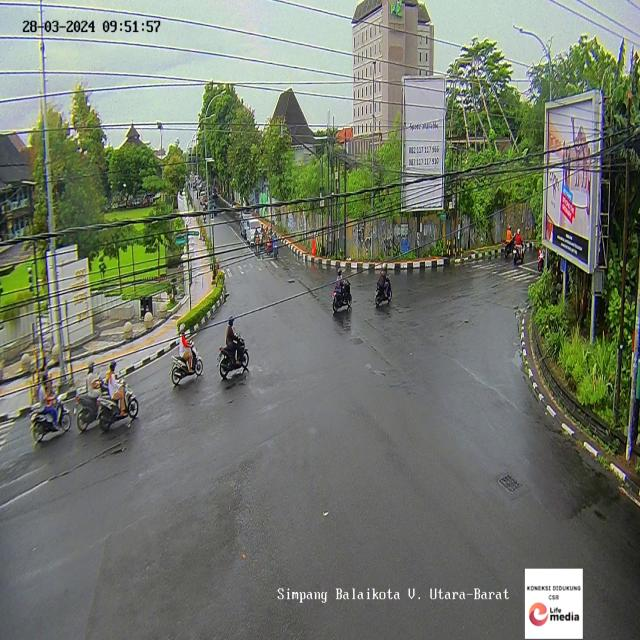car: (246, 218, 263, 246)
motorcycle: (94, 360, 146, 438), (29, 374, 67, 442), (172, 321, 205, 392), (74, 361, 106, 434), (216, 317, 246, 378), (332, 265, 358, 316), (374, 260, 392, 314), (512, 226, 524, 266), (504, 226, 516, 258), (273, 232, 279, 260)
